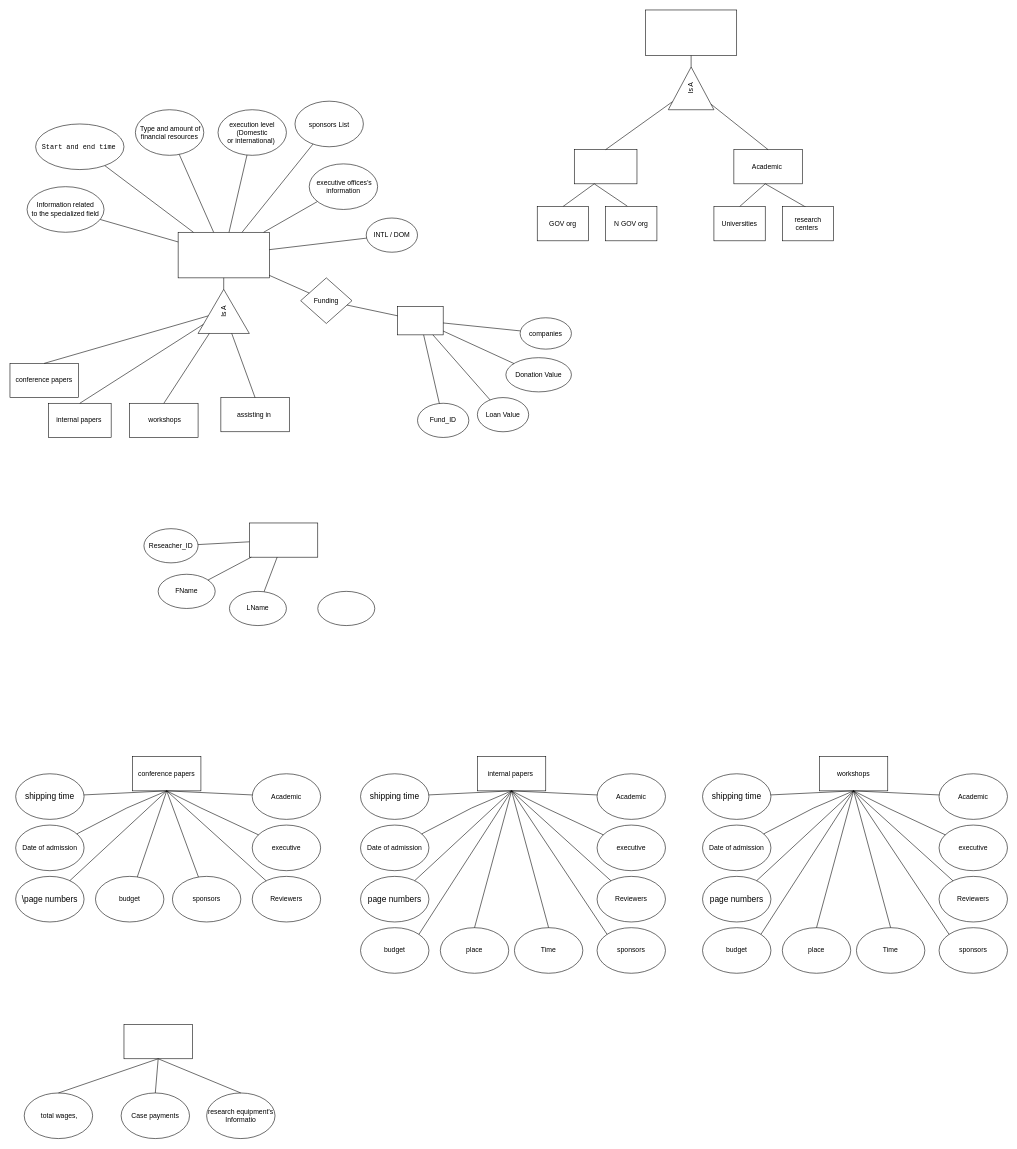
This 1017x1149 diagram has some shape labels left out. The shapes that lost their labels are listed below. From the top down, each one's centre as x and y in pixels, then its label:
At (x=691, y=32): "Institute types".
At (x=605, y=166): "Practical".
At (x=223, y=255): "Research activity".
At (x=420, y=320): "Fund".
At (x=283, y=539): "researcher".
At (x=157, y=1041): "related Information of member".
